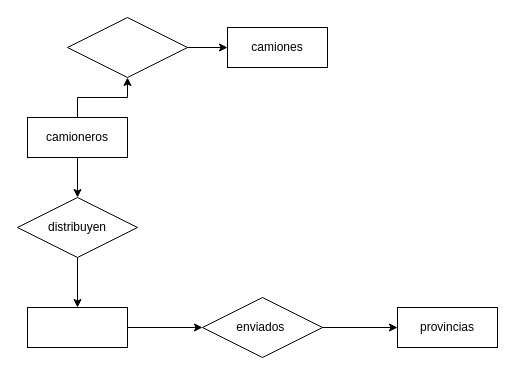
The diagram is 515 pixels wide and 375 high, and some of its shapes have lost their labels. The centre of each missing label's shape, as x and y in pixels:
conducen: point (127, 47)
paquetes: point (77, 327)
